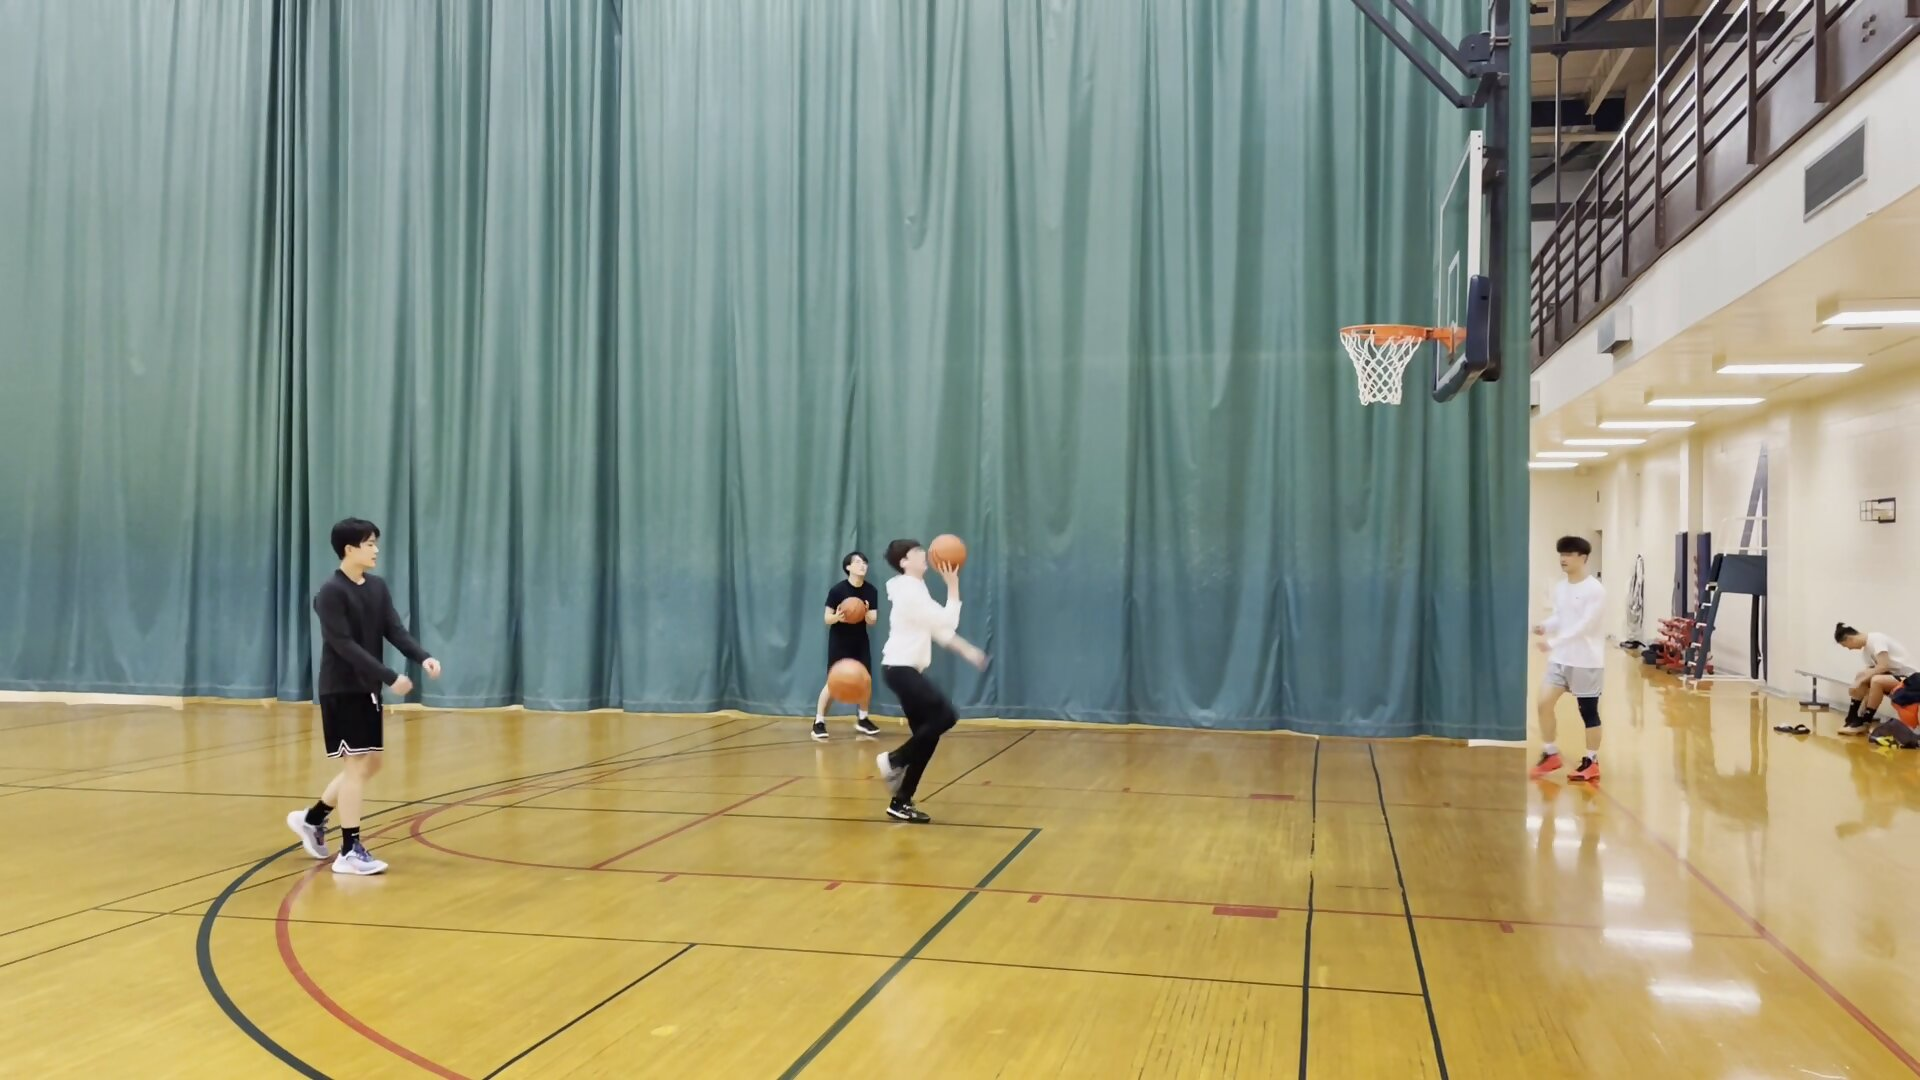ball: (825, 660, 870, 706), (927, 532, 970, 574), (838, 596, 870, 627)
net: (1349, 379, 1410, 410)
player: (298, 515, 427, 874), (877, 538, 981, 815), (1529, 535, 1611, 788), (819, 550, 878, 739), (1830, 622, 1920, 743)
rim: (1336, 321, 1426, 349)
